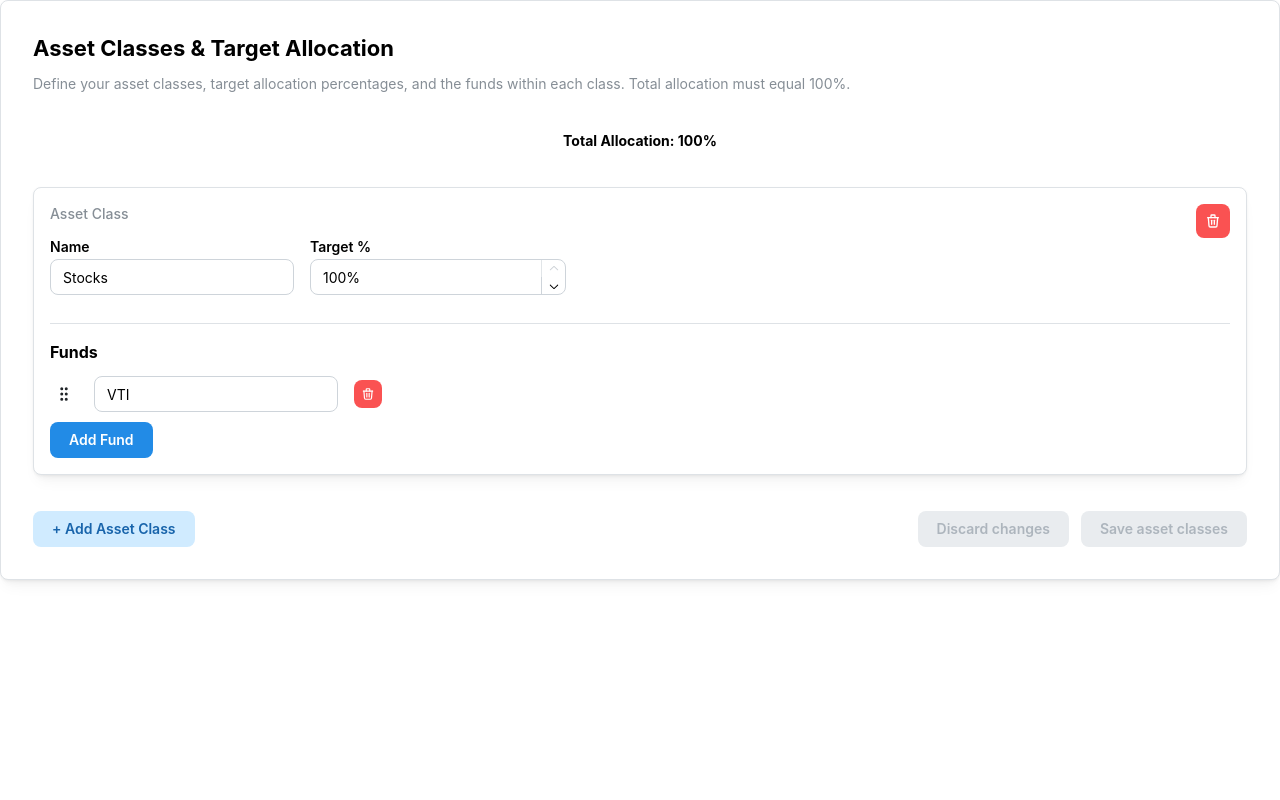
AssetClassSettings › rejects a ticker containing unsupported characters
The width and height of the screenshot is (1280, 800).
In the field named "Ticker": (216, 394) [94, 376, 338, 412], type "VTI@"
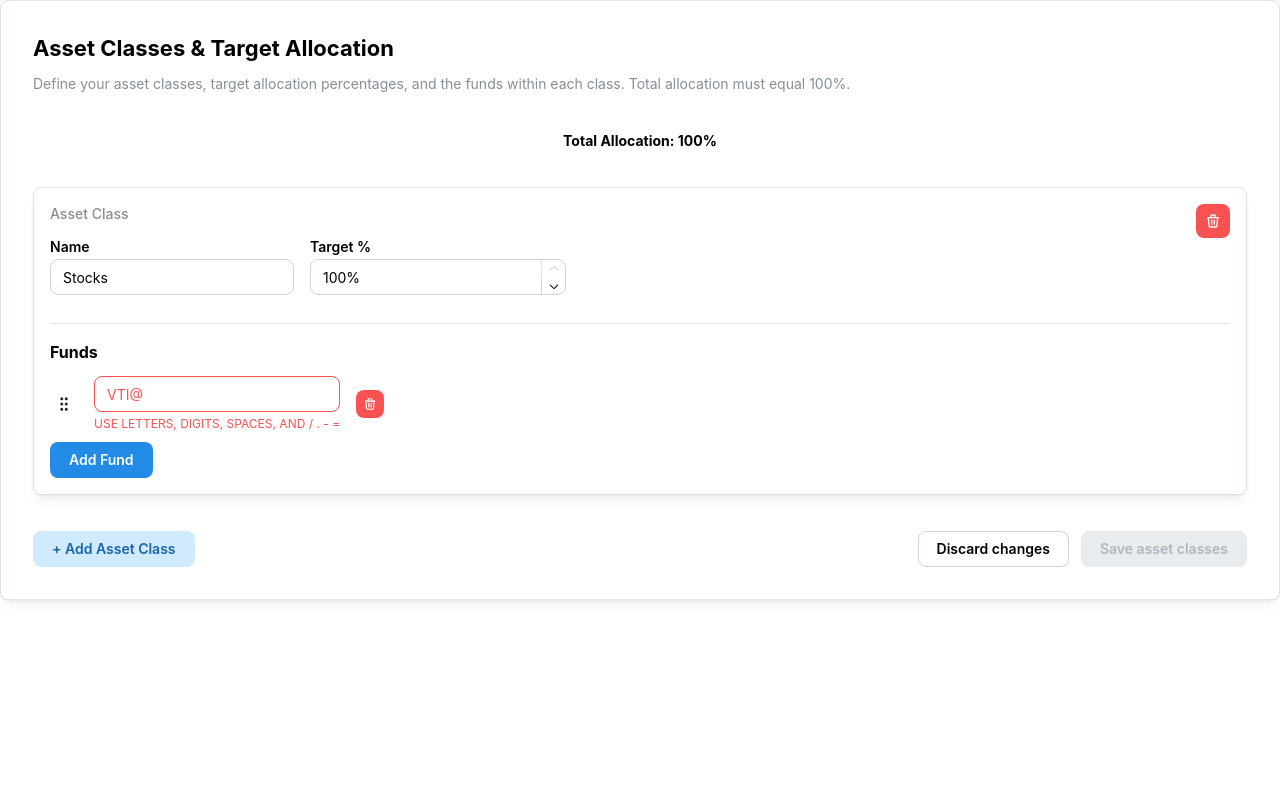
Expected: the button "Save asset classes" is disabled, [1081, 531, 1247, 567]
Expected: the text "Use letters, digits, spaces, and / . - =" is shown, [94, 417, 340, 432]
